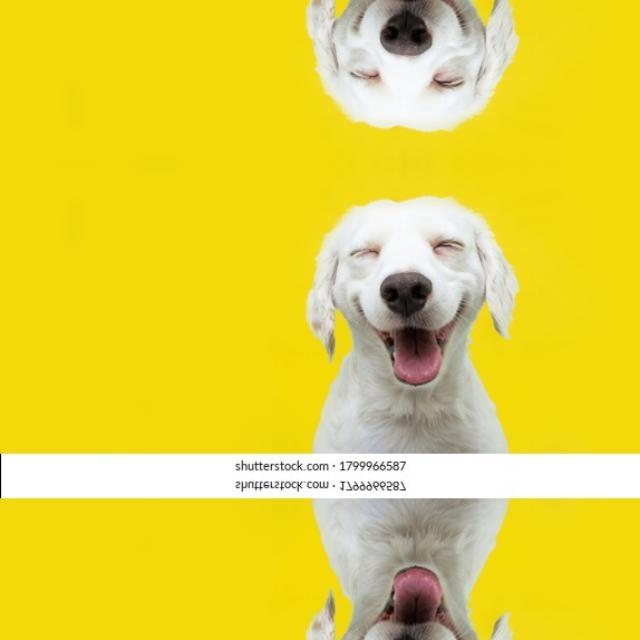dog: (291, 172, 523, 386), (291, 0, 523, 154), (291, 564, 523, 640)
